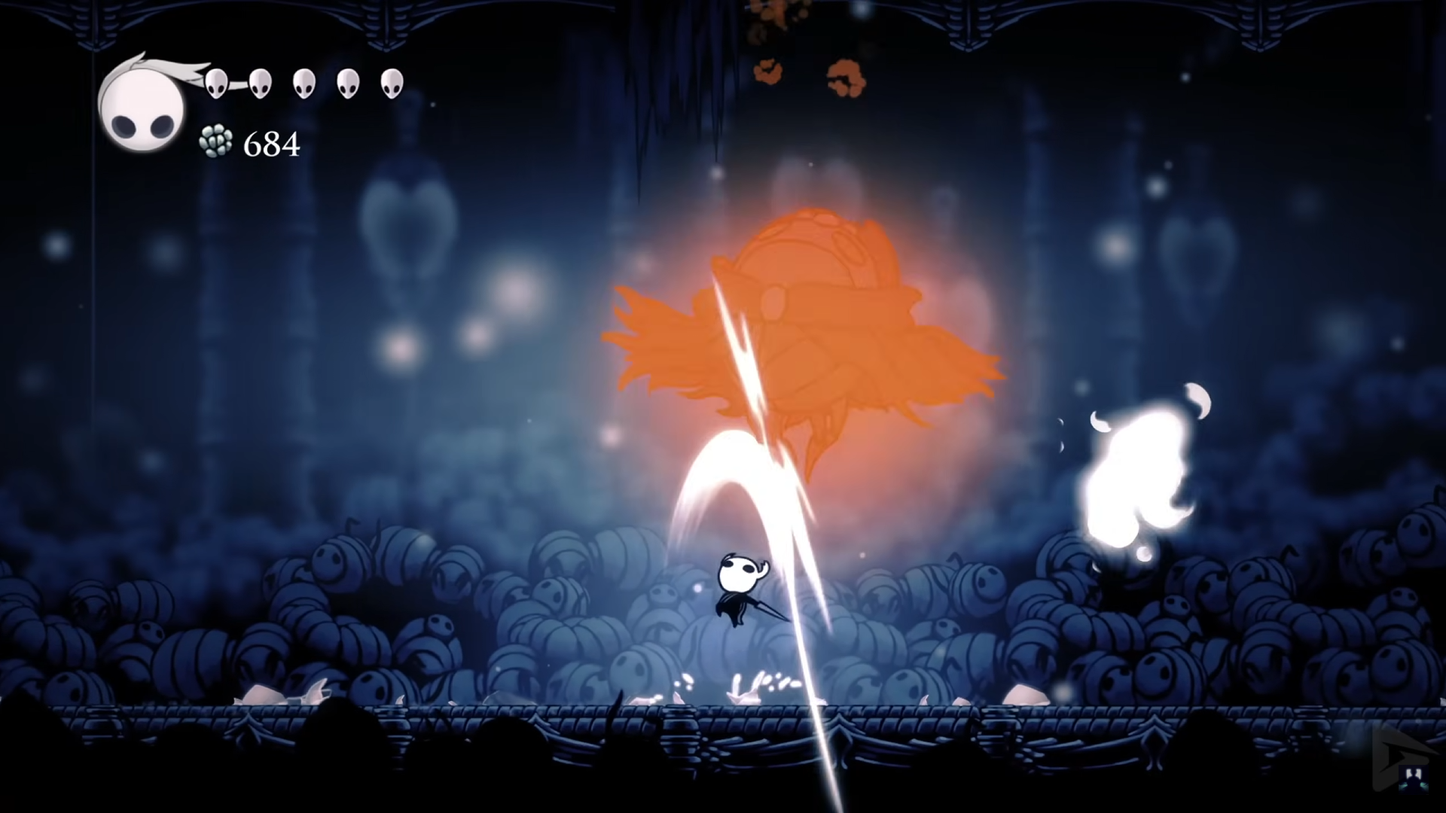HK: (710, 546, 773, 630)
